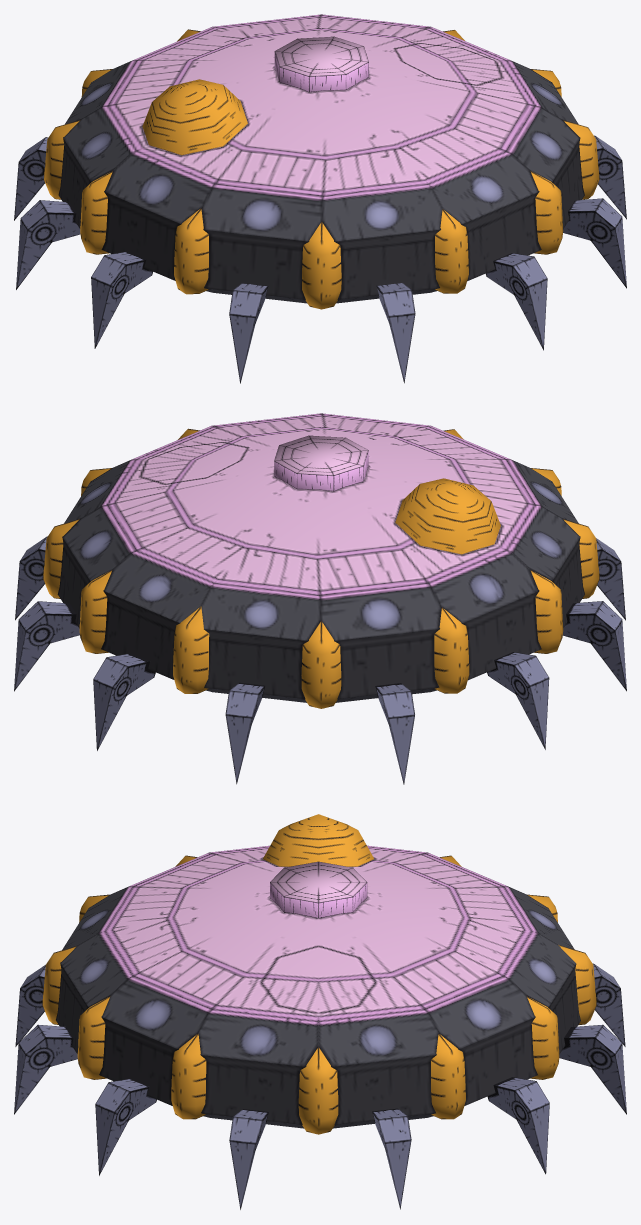
The model's file is jianzhu_3_1.FBX.
3 views of the same model, one above another, from view 1: azimuth 30°, elevation 25°; view 2: azimuth 150°, elevation 25°; view 3: azimuth 270°, elevation 25° (orthographic).
Parts seen in each view (by area): view 1: default007; view 2: default007; view 3: default007.
Boxes of the visible parts, left/top/right/bottom form: default007: left=14, top=14, right=626, bottom=383; default007: left=14, top=413, right=626, bottom=784; default007: left=14, top=814, right=626, bottom=1209.
Bounding box in the file's own units: 375 × 136 × 375.
